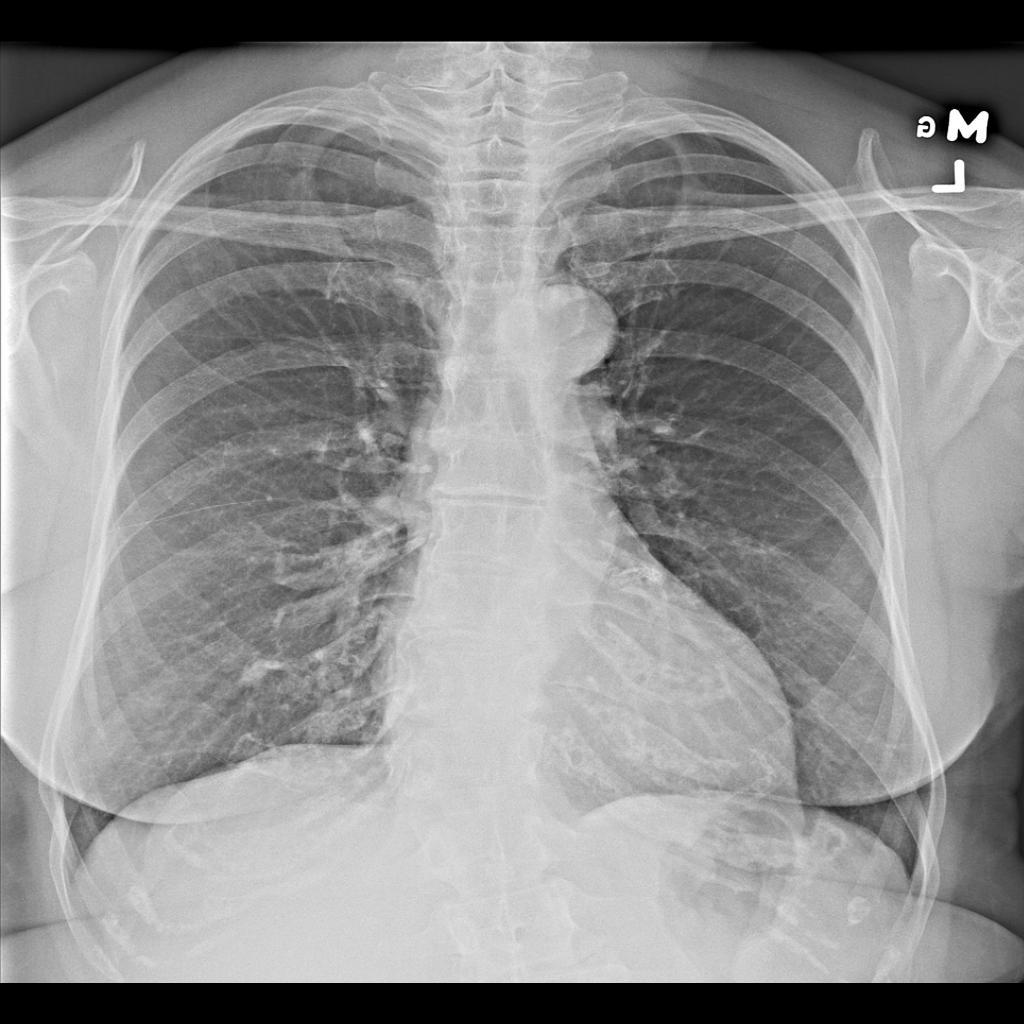Nodule: (235, 654, 282, 695)
